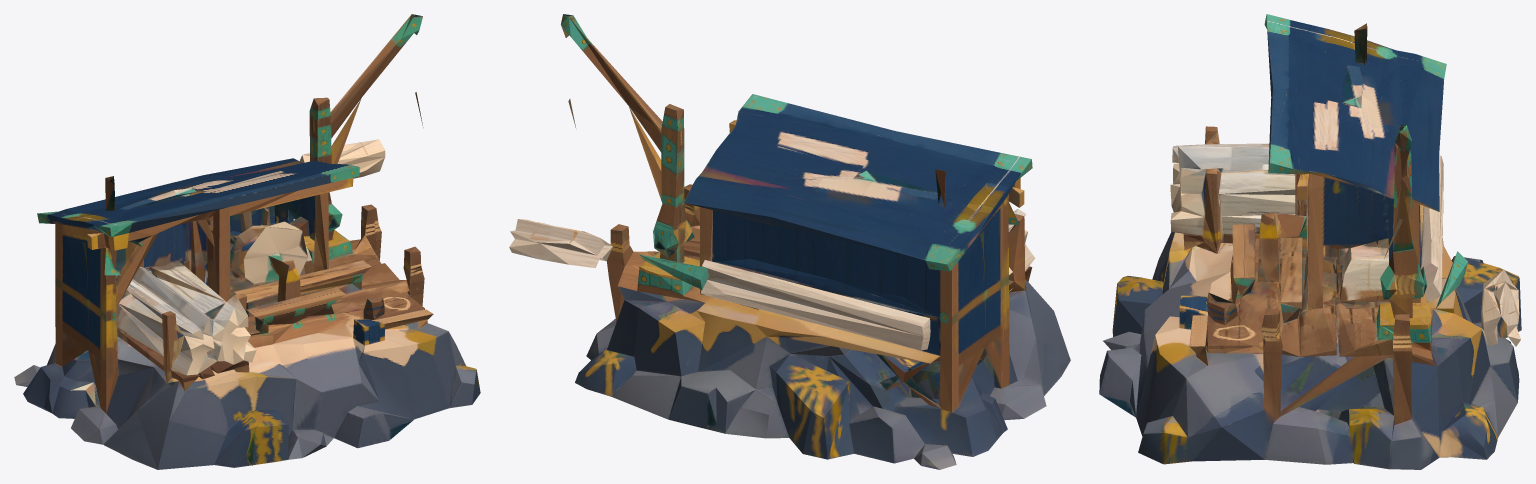
Rendered from lumberyard.glb.
3 views of the same model, side by side, from view 1: azimuth 30°, elevation 25°; view 2: azimuth 150°, elevation 25°; view 3: azimuth 270°, elevation 25° (orthographic). The views are drawn at different scales.
Bounding box in the file's own units: 1.86 × 1.36 × 1.45.
Materials: 1 (1 with a texture image).
